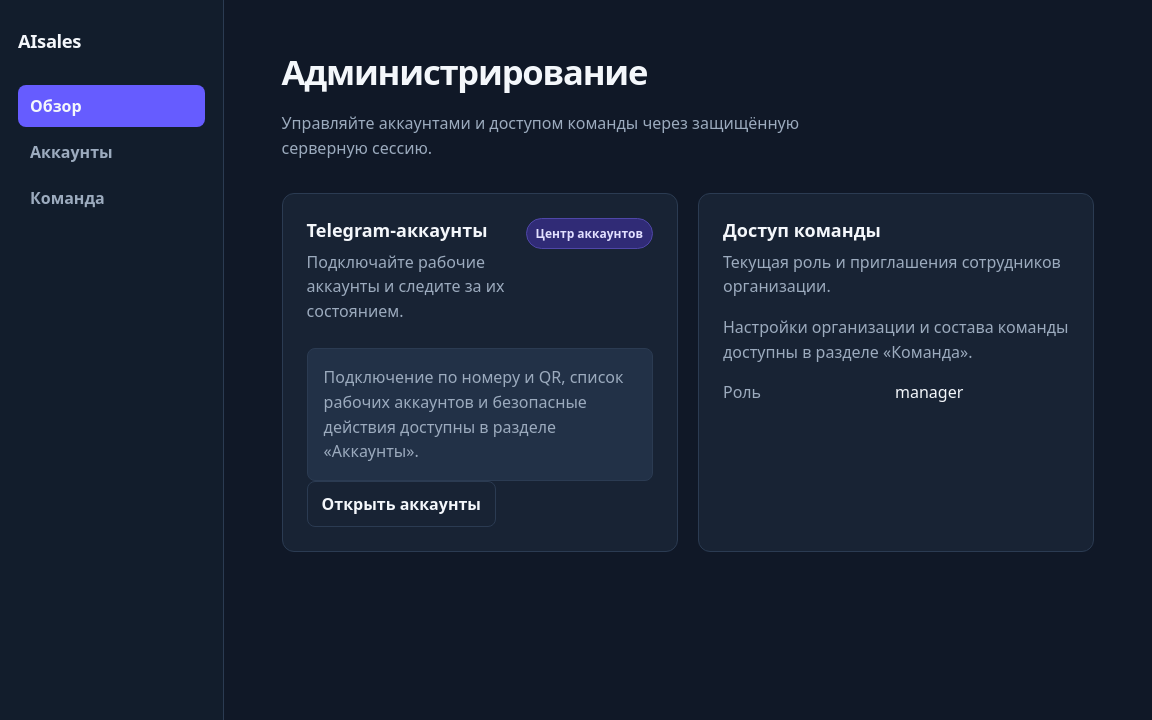
Test case: App › shows connected Telegram account states from the current organization only
The width and height of the screenshot is (1152, 720).
expect the heading "Администрирование" is shown: met, box x1=282 y1=48 x2=647 y2=95
Click the button "Аккаунты".
click(112, 152)  # box x1=18 y1=131 x2=205 y2=173
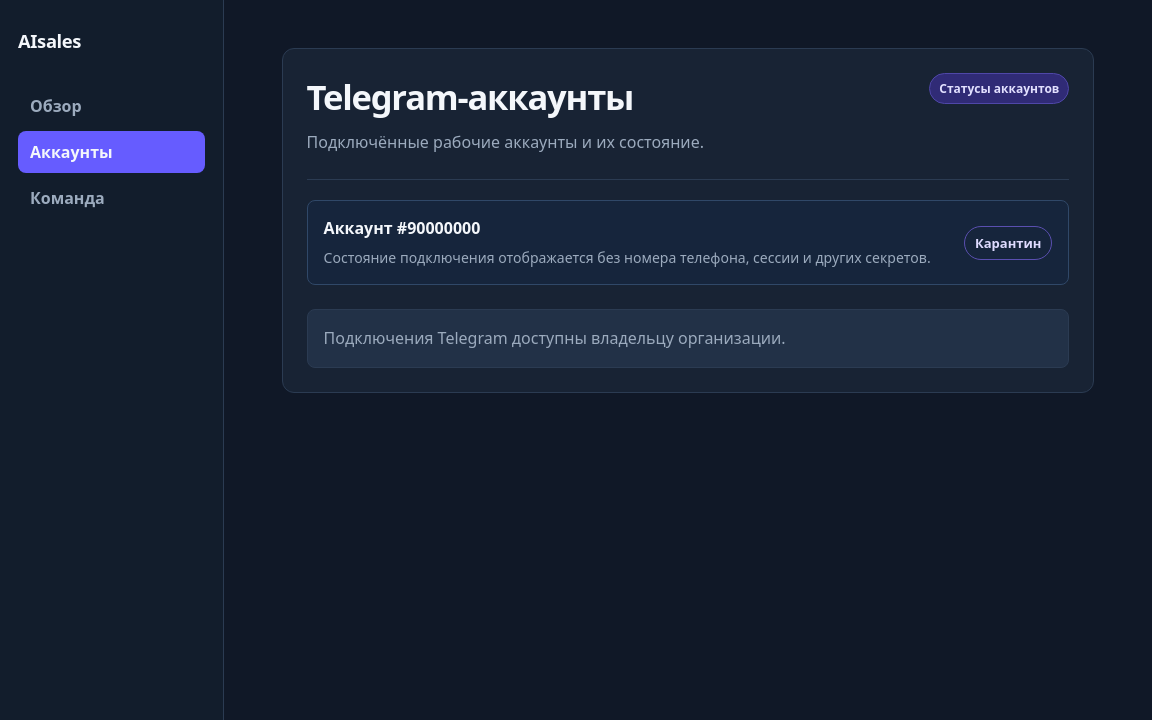
expect the text "Карантин" is shown: met, box x1=964 y1=226 x2=1052 y2=260
expect the heading "Аккаунт #90000000" is shown: met, box x1=324 y1=217 x2=480 y2=239
